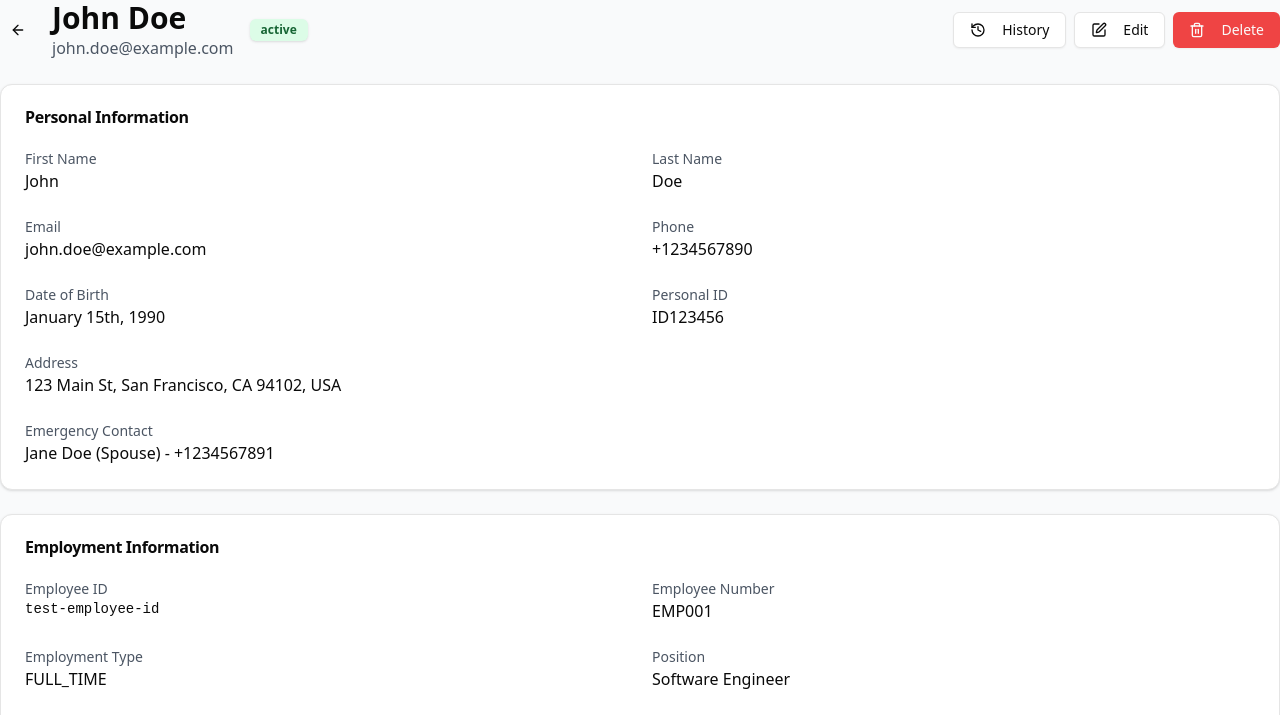
Test: EmployeeDetail › History View › shows history when History button is clicked
Step 1. Click the button "History" → (1010,30), box [953,12,1066,48]
(page scrolled)
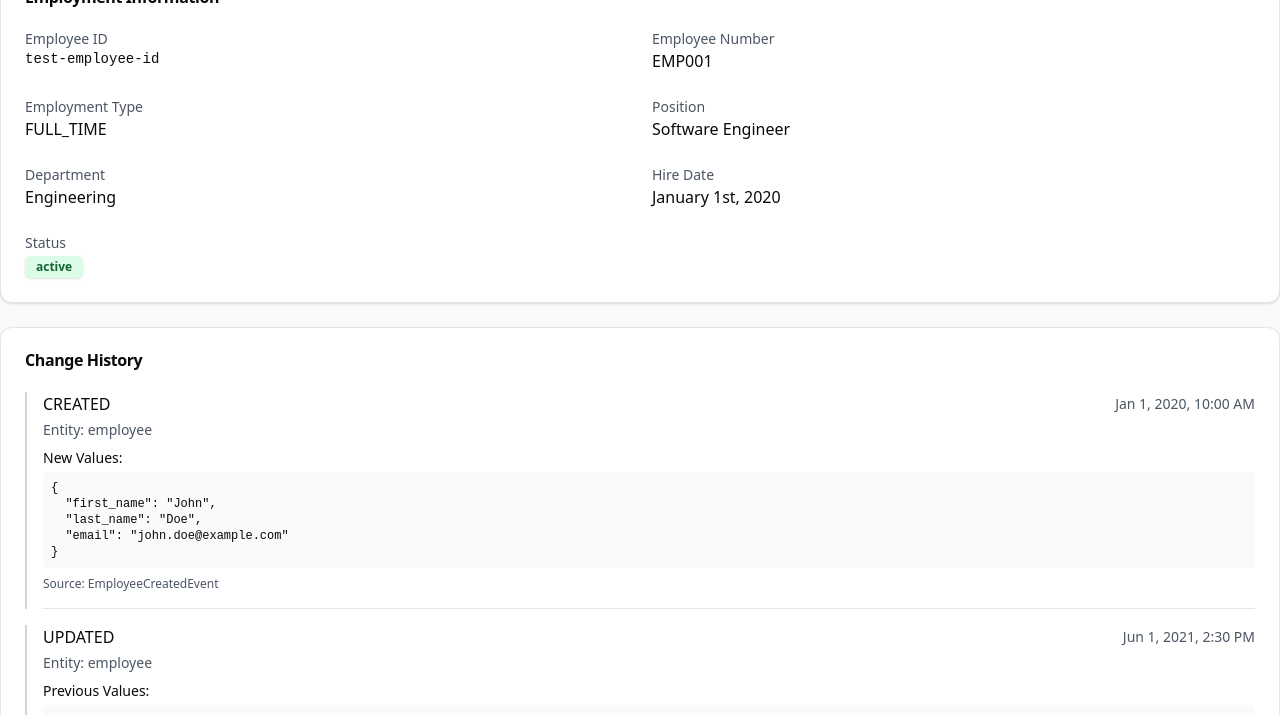
Expected: the text "Change History" is shown, [25,349,142,371]
